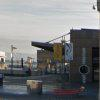Traffic light: (81, 0, 100, 23)
